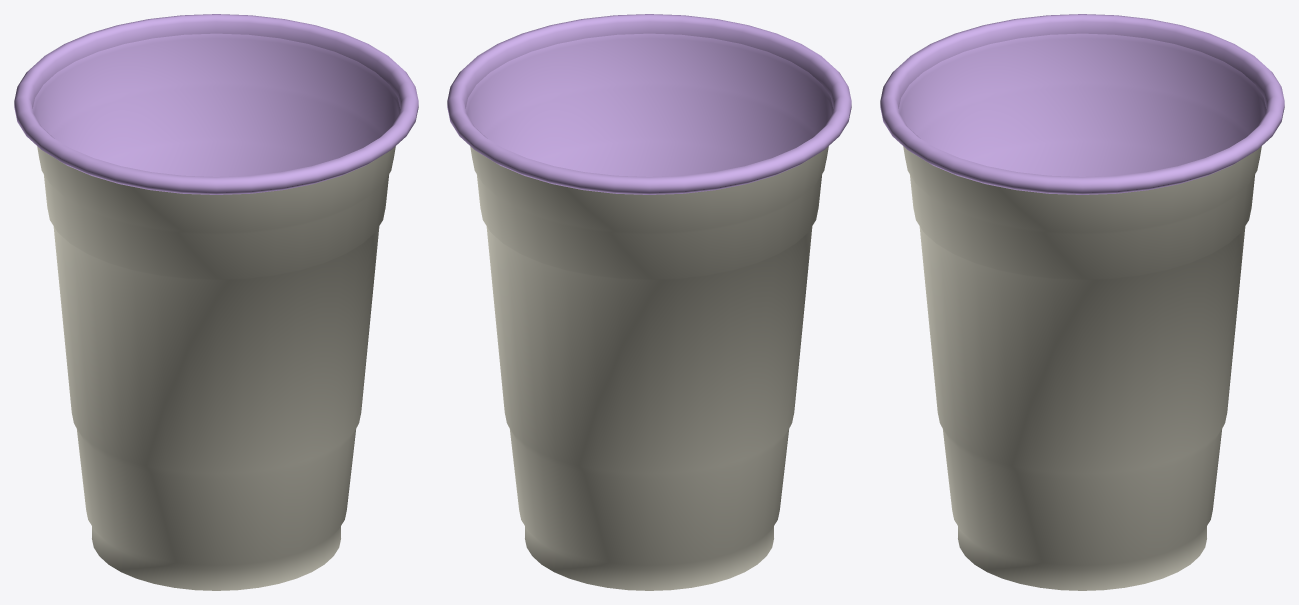
3 renders of one model, left to right at view 1: azimuth 30°, elevation 25°; view 2: azimuth 150°, elevation 25°; view 3: azimuth 270°, elevation 25°, orthographic.
Visible parts, largest first — view 1: RedCup; view 2: RedCup; view 3: RedCup.
Part boxes in pixels (x1,y1,x2,y2): RedCup: [14, 14, 418, 590]; RedCup: [447, 14, 851, 590]; RedCup: [880, 14, 1284, 590].
Size of the model in its own units: 3.95 by 4.76 by 3.95.
